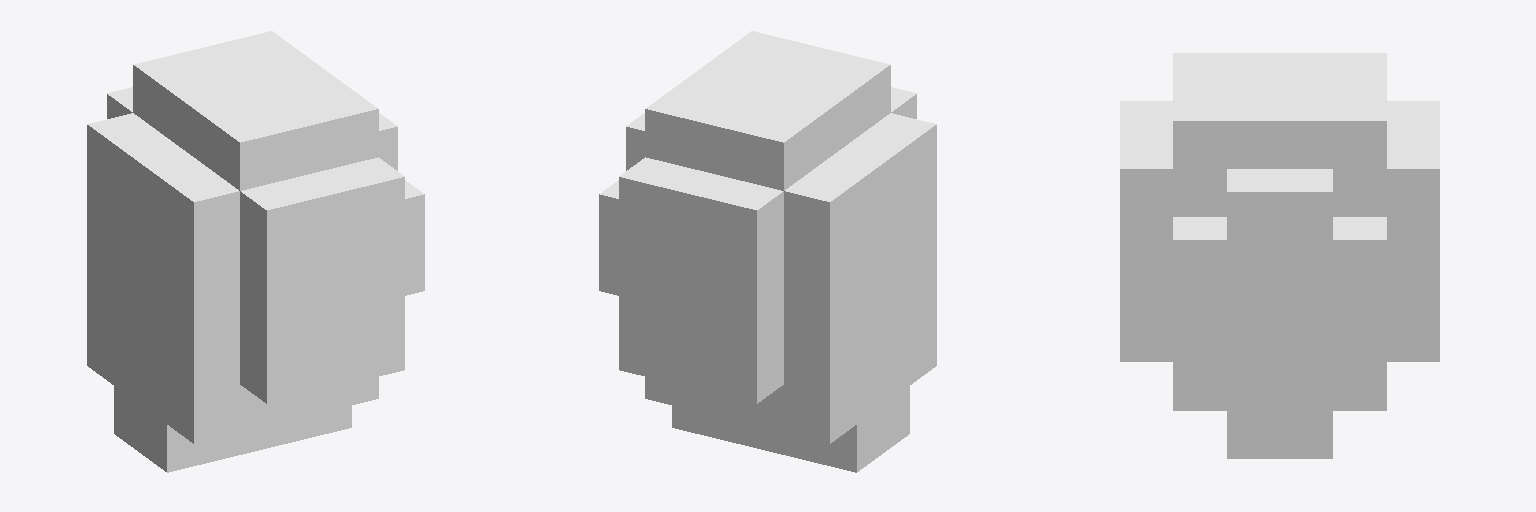
The model's file is Hunters-0-head.obj.
3 views of the same model, side by side, from view 1: azimuth 30°, elevation 25°; view 2: azimuth 150°, elevation 25°; view 3: azimuth 270°, elevation 25° (orthographic).
Visible parts, largest first — view 1: head; view 2: head; view 3: head.
Part boxes in pixels (bbox=[...]): head: bbox=[87, 31, 424, 472]; head: bbox=[599, 31, 936, 472]; head: bbox=[1120, 53, 1439, 458].
Size of the model in its own units: 0.5 by 0.7 by 0.6.